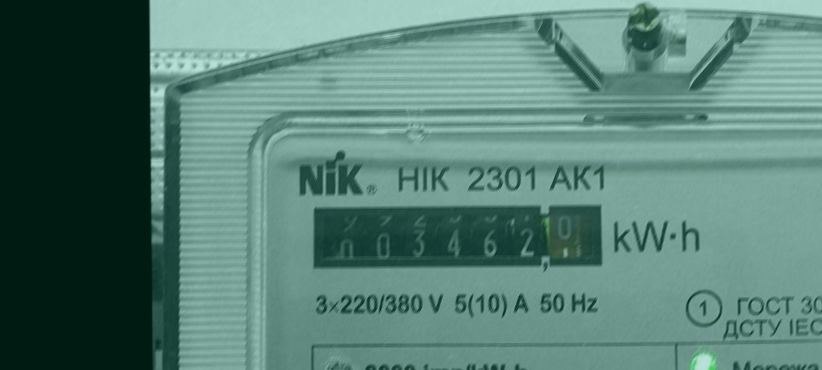0: (374, 230, 392, 259), (556, 213, 573, 242), (336, 236, 355, 259)
2: (518, 226, 536, 258)
3: (409, 228, 427, 260)
4: (446, 226, 463, 258)
6: (480, 226, 500, 260)
9: (339, 214, 359, 233)
screen: (301, 193, 614, 287)
